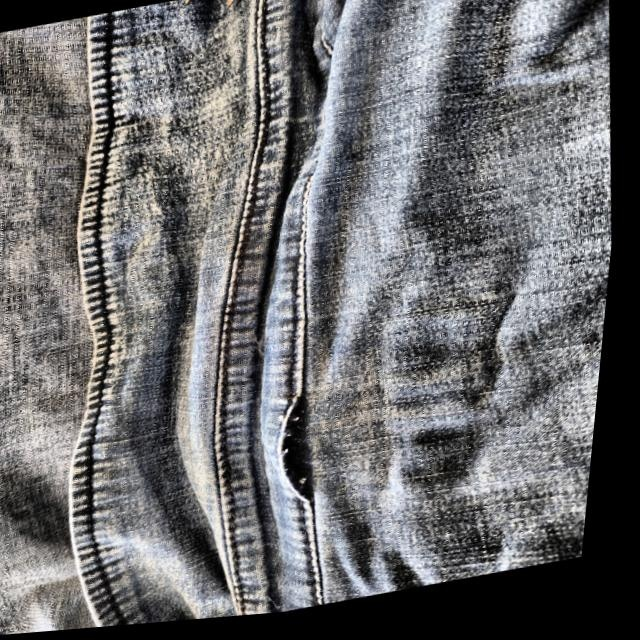seam: (251, 383, 347, 524)
